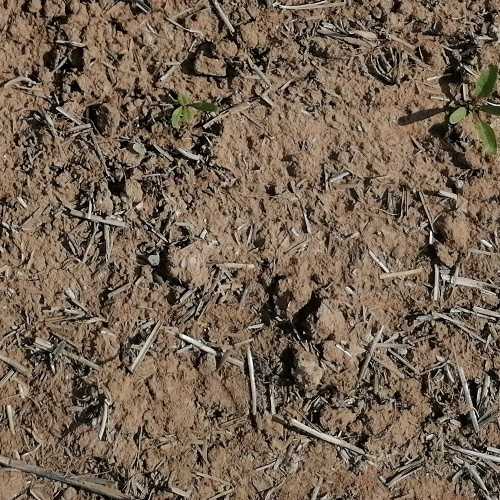beet: (448, 64, 500, 155), (171, 91, 213, 134)
